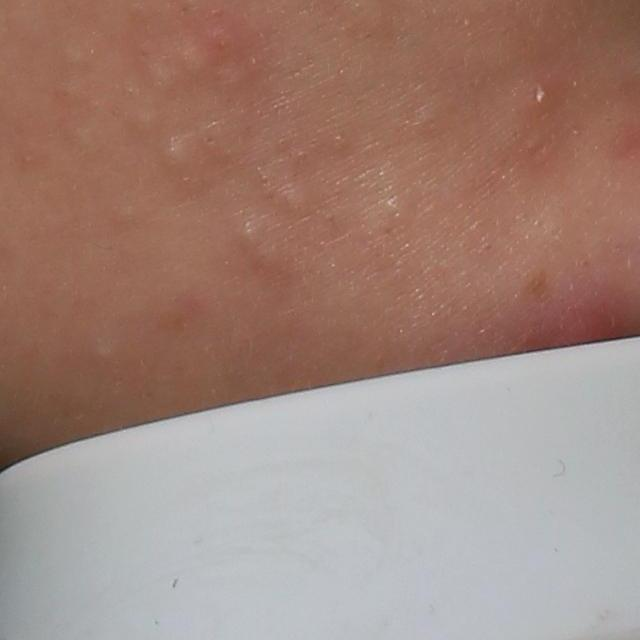comedo: (264, 178, 314, 223), (161, 135, 193, 172), (235, 222, 263, 247)
